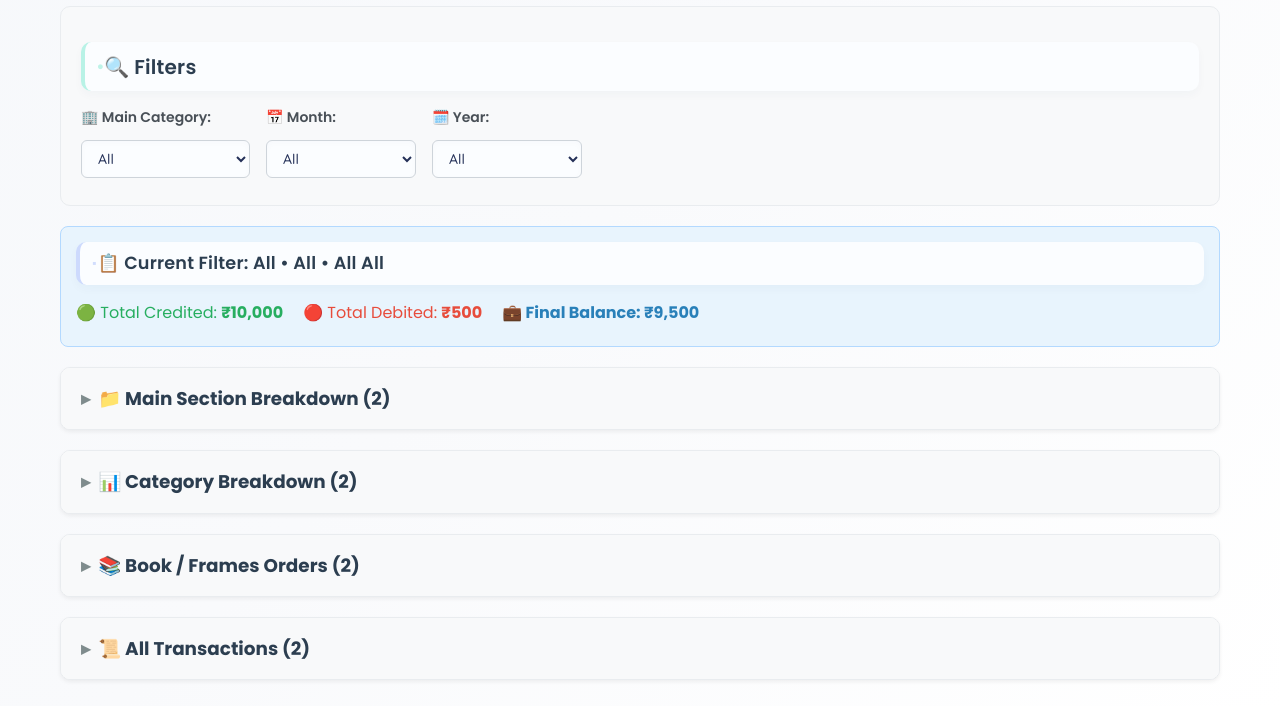
Test case: expanded main-section row reveals its transactions
(page scrolled)
Step 1. Click the text "📁 Main Section Breakdown (2)" → (244, 398), box [98, 384, 390, 413]
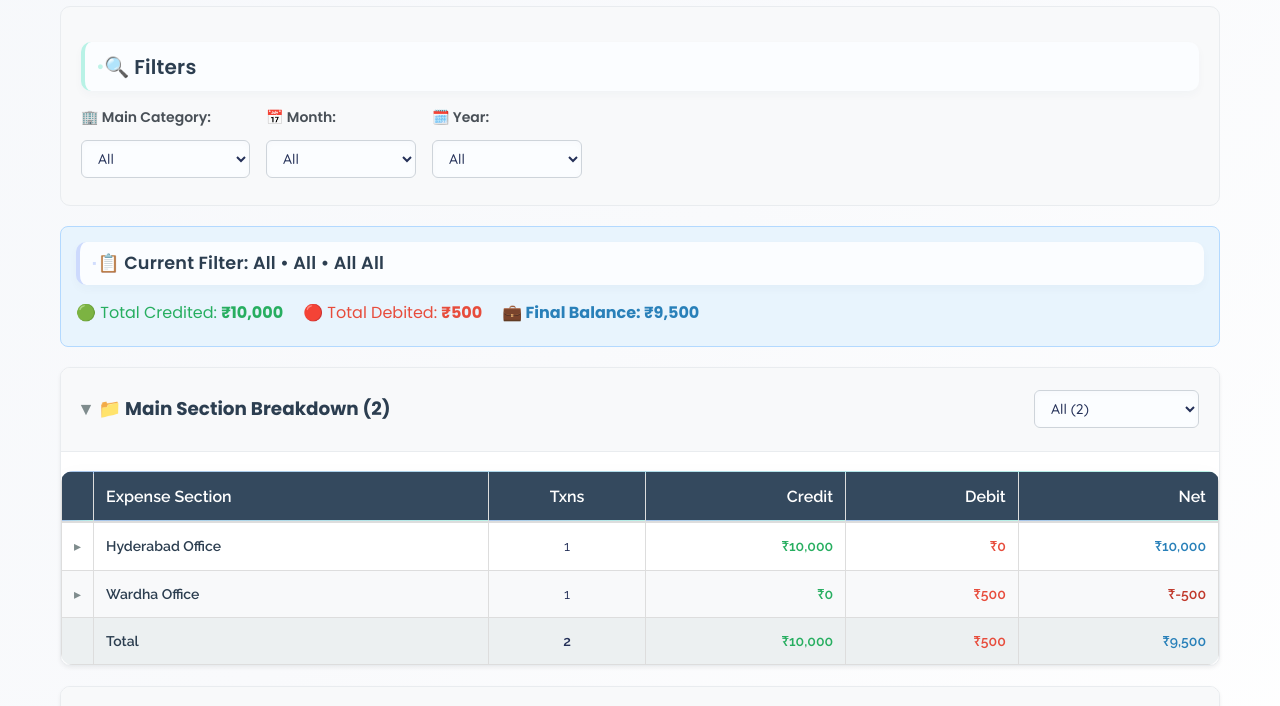
Step 2. Click the cell "Wardha Office" → (291, 594), box [94, 570, 489, 618]
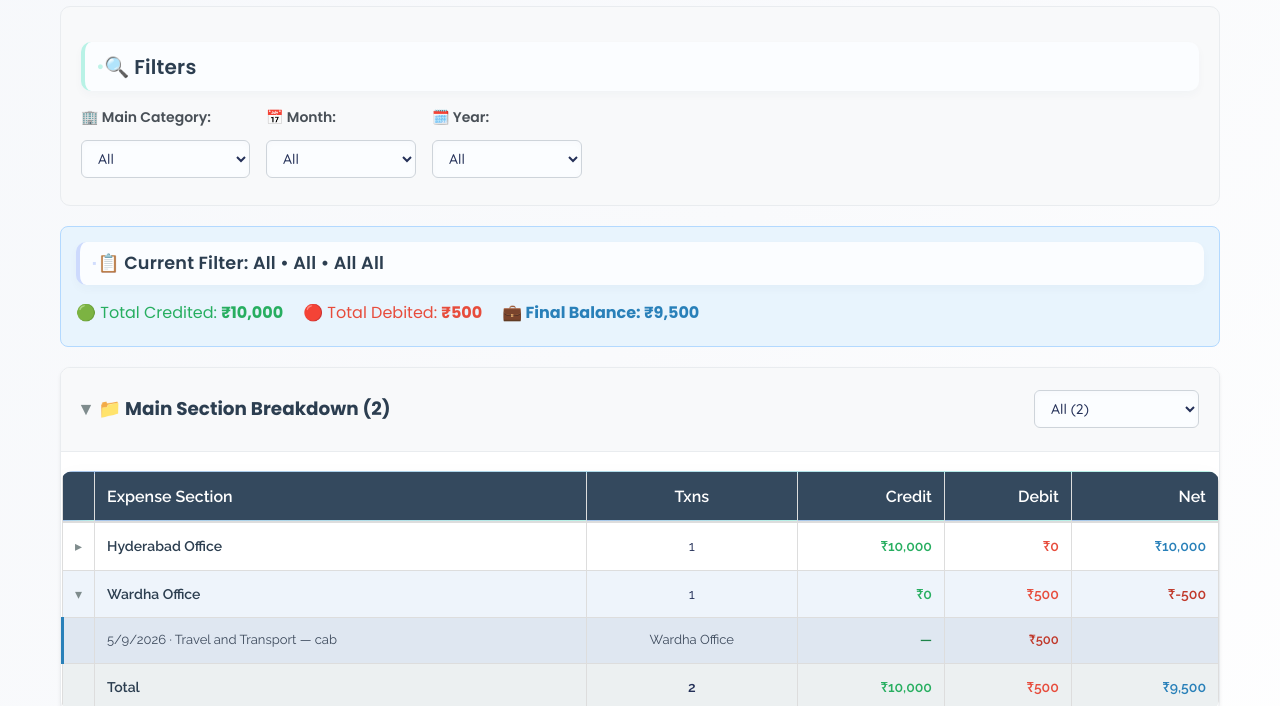
Expected: the text "5/9/2026 · Travel and Transport — cab" is shown, [94, 618, 586, 663]
